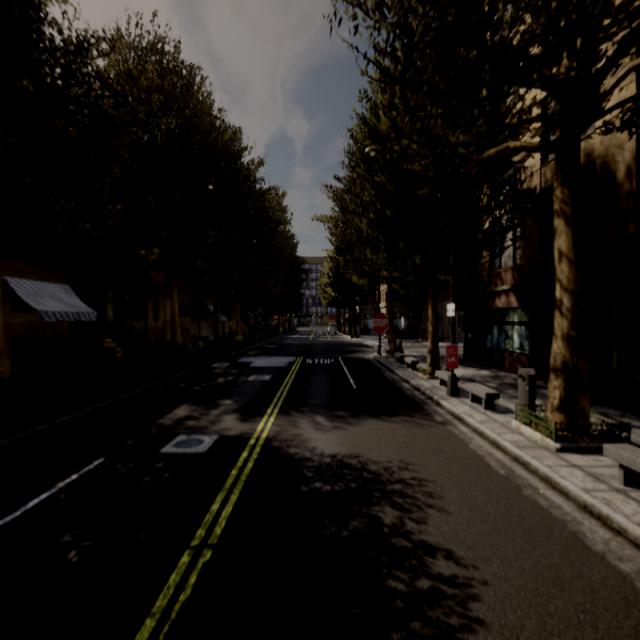stop sign: (370, 308, 390, 355), (370, 310, 390, 336)
